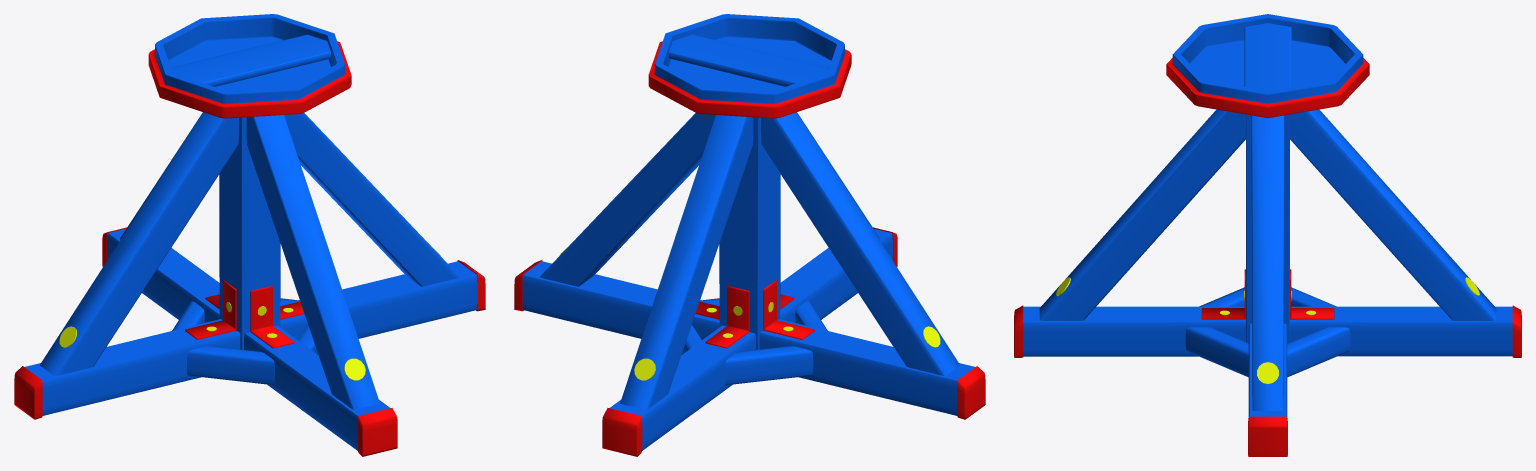
File: BallisteRepairedBase.fbx
The picture shows the model from 3 angles, left to right: view 1: azimuth 30°, elevation 25°; view 2: azimuth 150°, elevation 25°; view 3: azimuth 270°, elevation 25°; orthographic projection. The views are drawn at different scales.
Parts seen in each view (by area): view 1: BallisteBase, BallisteRotatingPart; view 2: BallisteBase, BallisteRotatingPart; view 3: BallisteBase, BallisteRotatingPart.
Part boxes in pixels (x1,y1,x2,y2): BallisteBase: (14,112,485,456); BallisteRotatingPart: (148,14,351,118); BallisteBase: (514,112,985,456); BallisteRotatingPart: (648,14,851,118); BallisteBase: (1014,109,1521,456); BallisteRotatingPart: (1166,14,1369,117).
Bounding box in the file's own units: 323 × 208 × 323.
